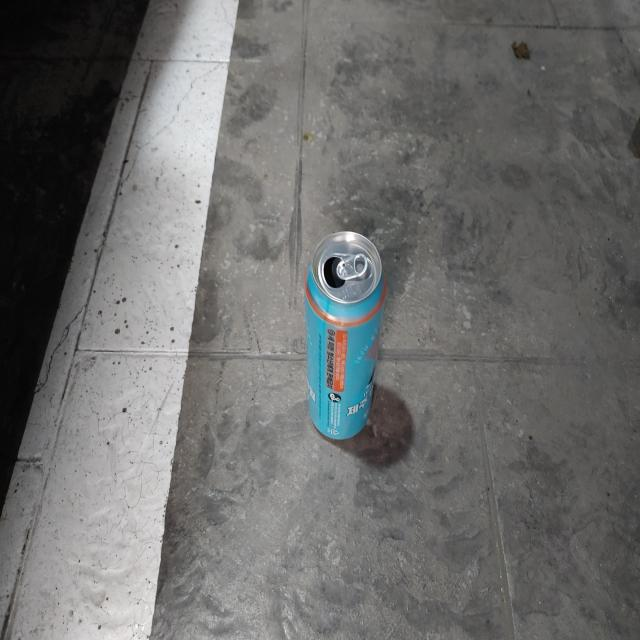can: (305, 231, 386, 440)
